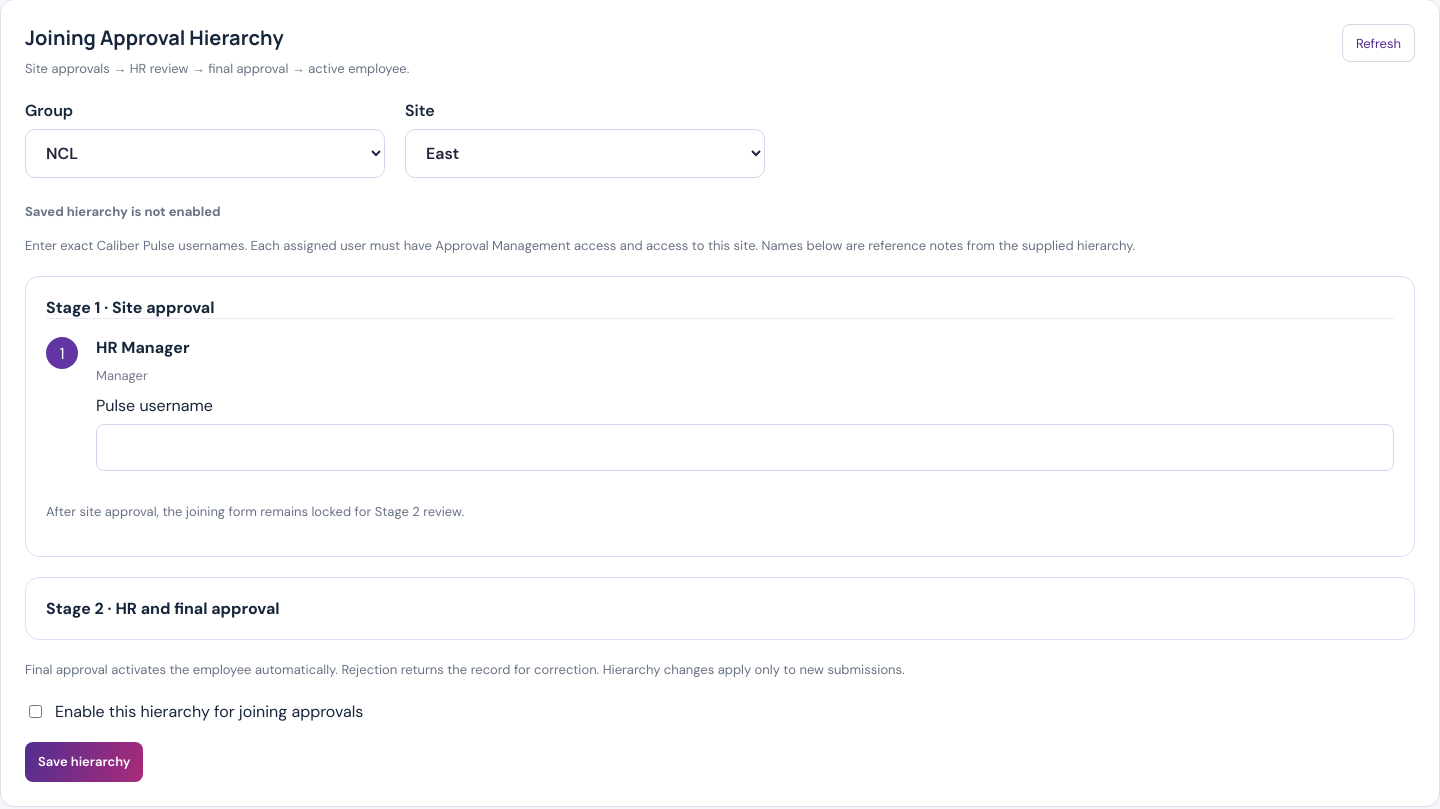
Test: blocks incomplete enabling and displays persisted status instead of unsaved checkbox state
This screenshot has width=1440, height=809.
Expected: the text "Saved hierarchy is not enabled" is shown, [25,203,221,220]
Click the checkbox at (36, 711), box [29,705,42,718]
(page scrolled)
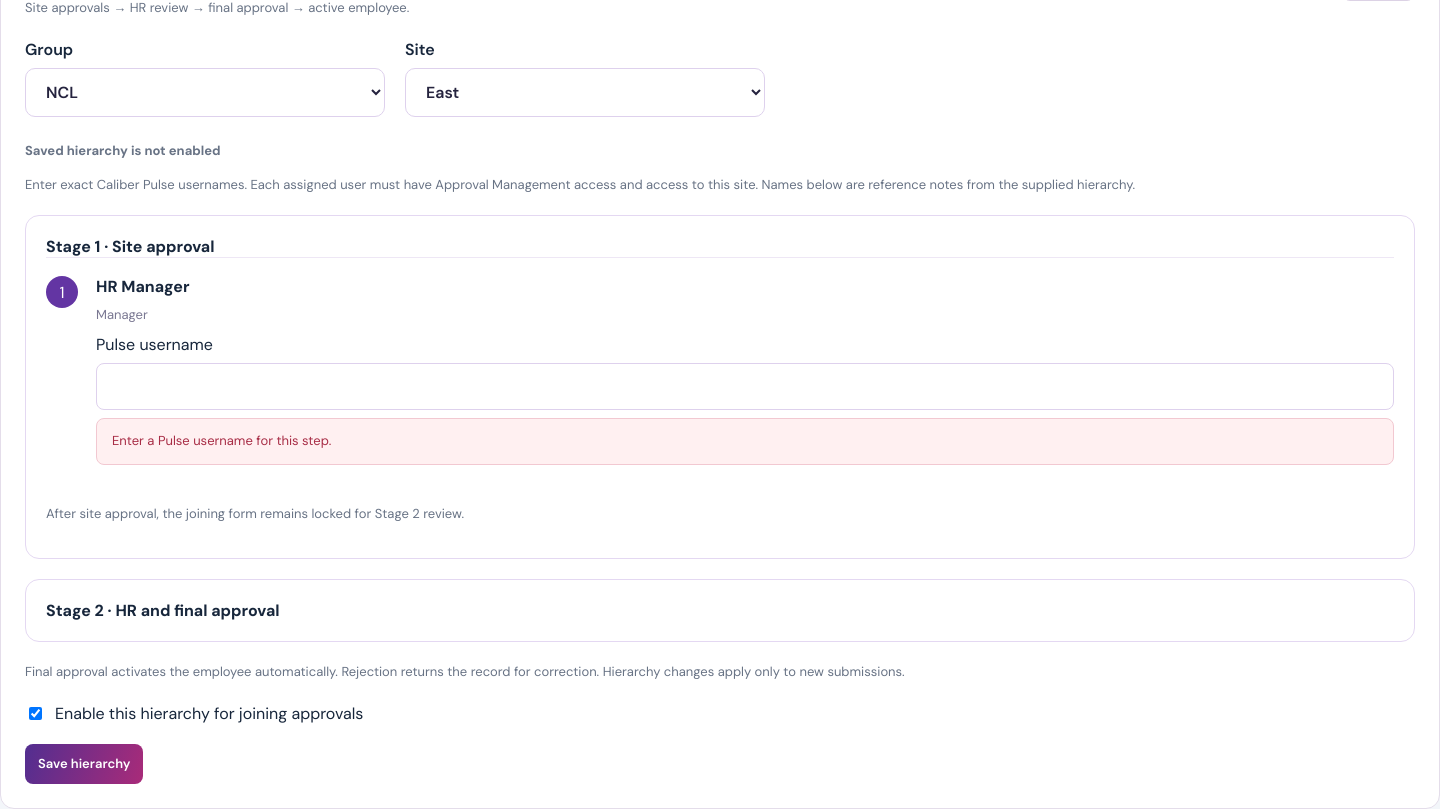
Expected: the text "Saved hierarchy is not enabled" is shown, [25,142,221,159]
Click the button "Save hierarchy" at (84, 764), box [25,744,144,784]
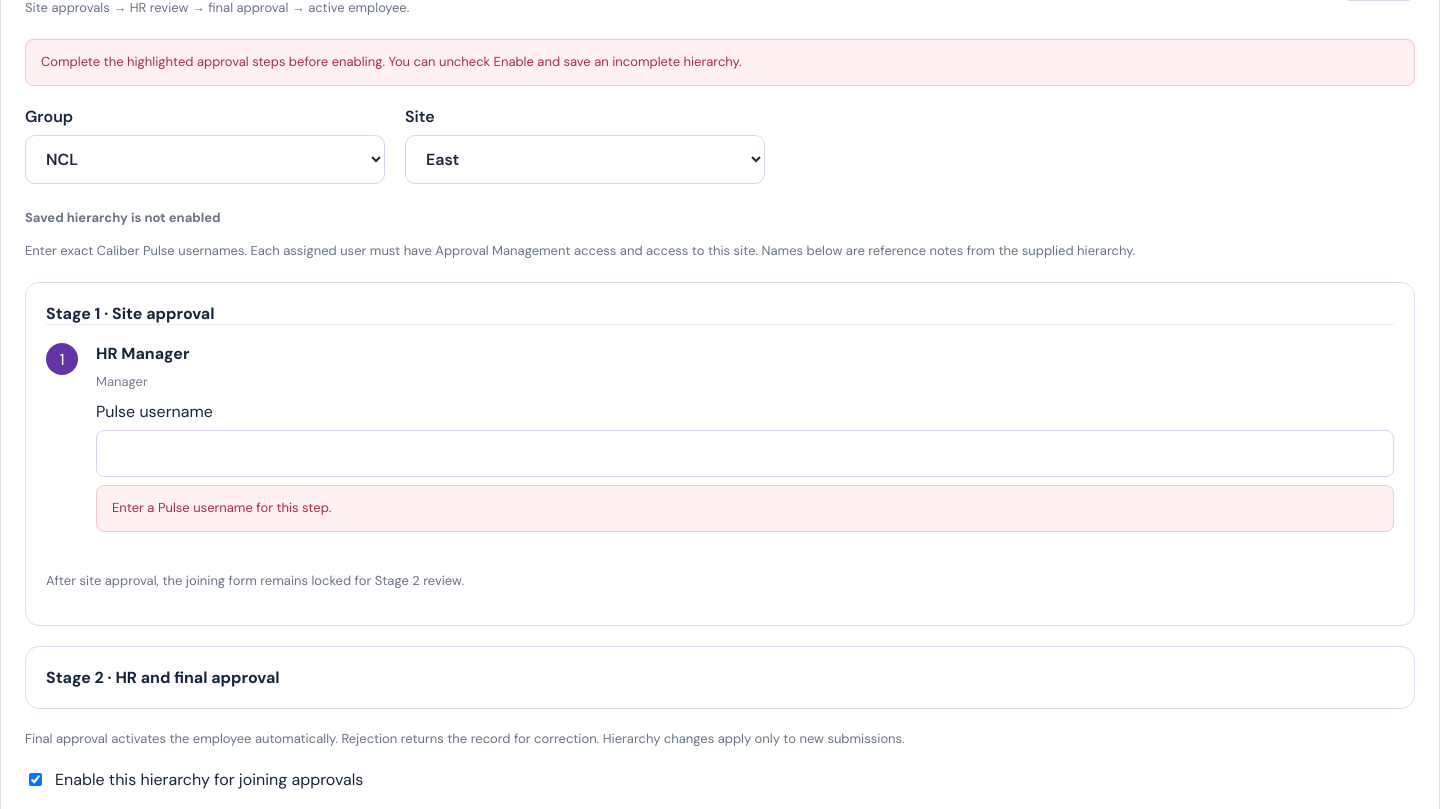
Now the message shows "highlighted", box [41,53,742,70]
